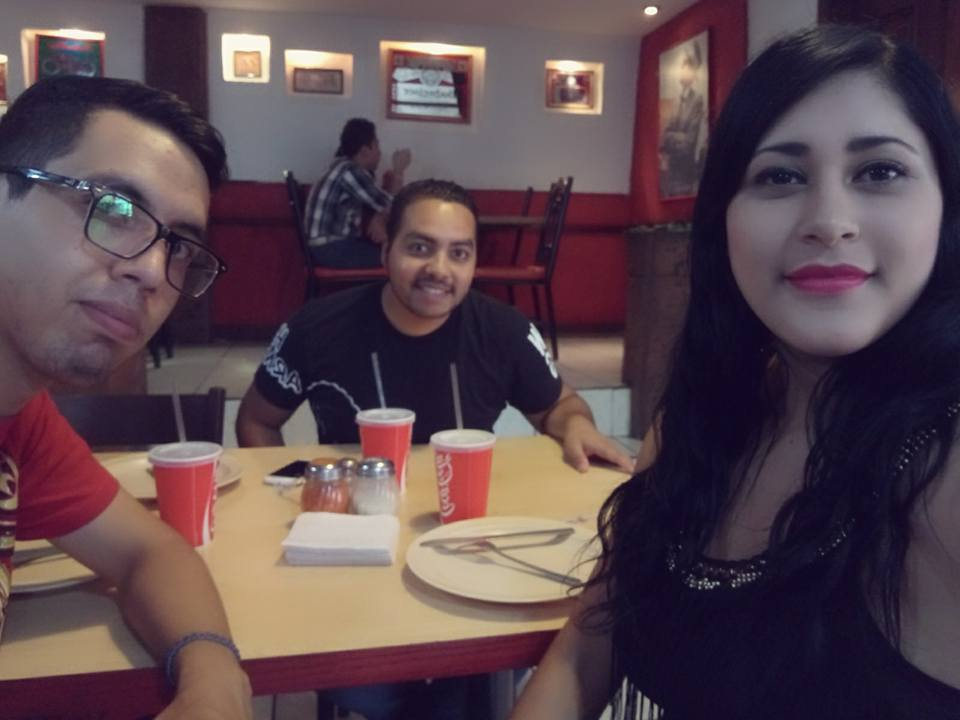Yoshi: (355, 150, 562, 444)
